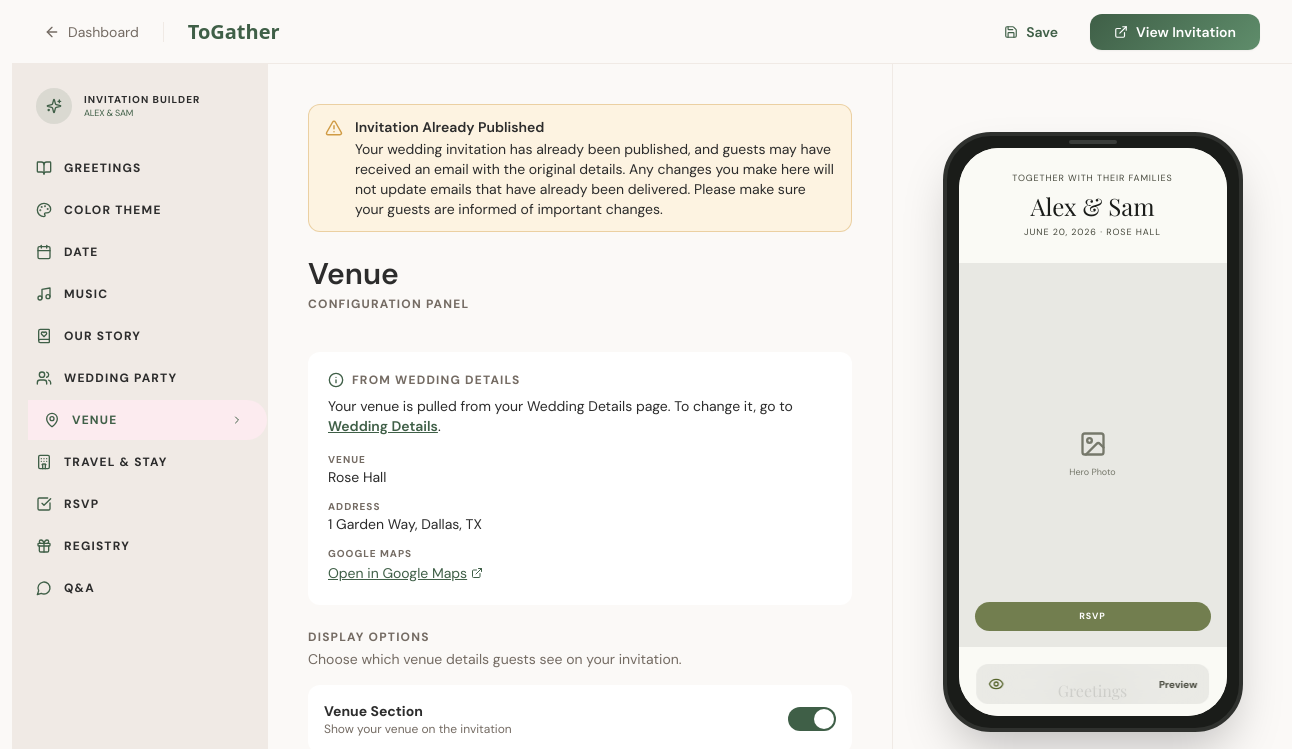
RSVP tab — deadline › a save error on another tab jumps to the RSVP tab
The width and height of the screenshot is (1292, 749).
Click the button "Save" at x=1031, y=32, box [984,14,1078,50]
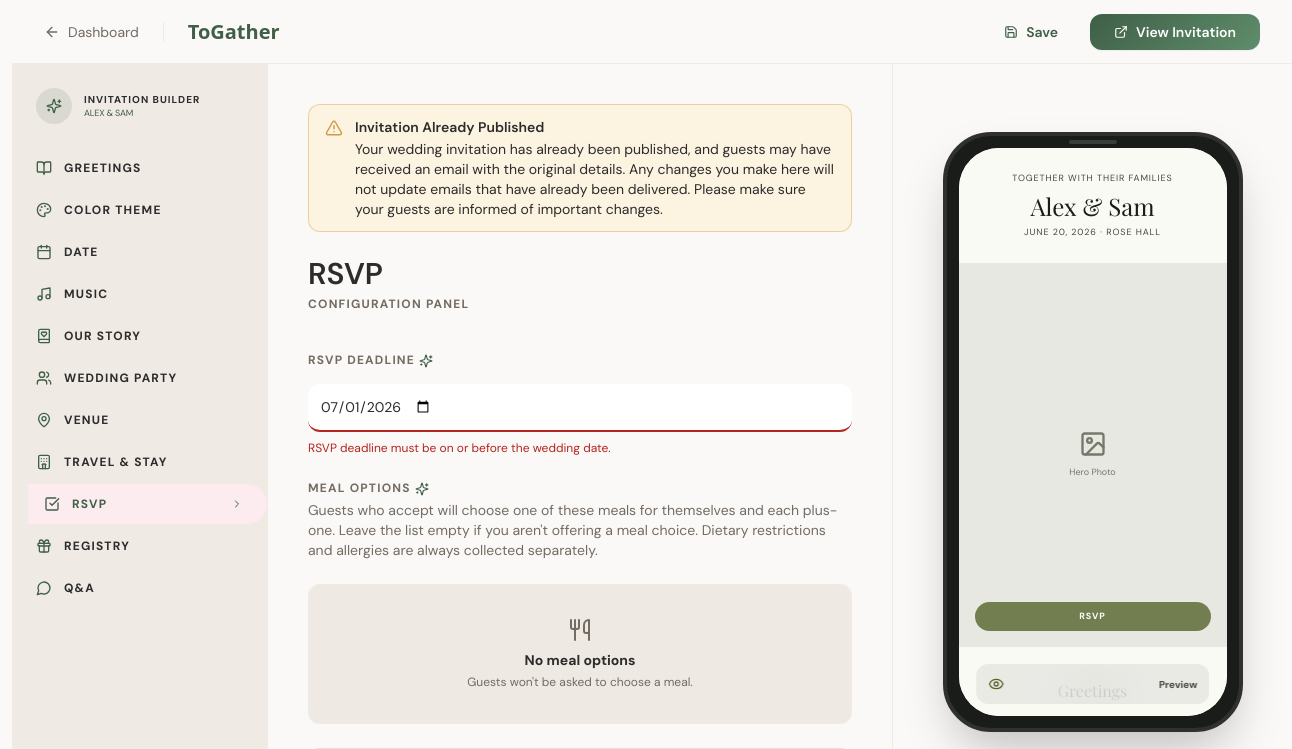
Expected: the date field named "RSVP deadline" is shown, [308,384,852,432]
Expected: the text "RSVP deadline must be on or before the wedding date." is shown, [308,440,611,456]
